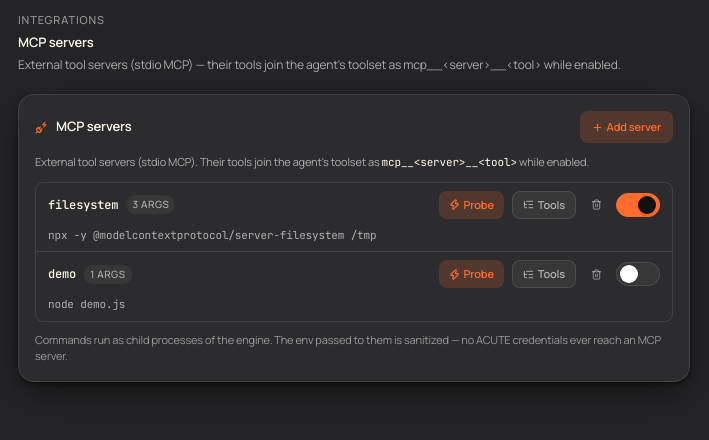
Test case: McpTab (ROUND-61 R61-2-a) › probes a server and renders the green reachable chip
This screenshot has width=709, height=440.
Check: the text "filesystem" is shown, box x1=48 y1=196 x2=118 y2=214
Step 1. Click the button with aria-label "Probe server filesystem" → (471, 205), box x1=439 y1=191 x2=504 y2=219
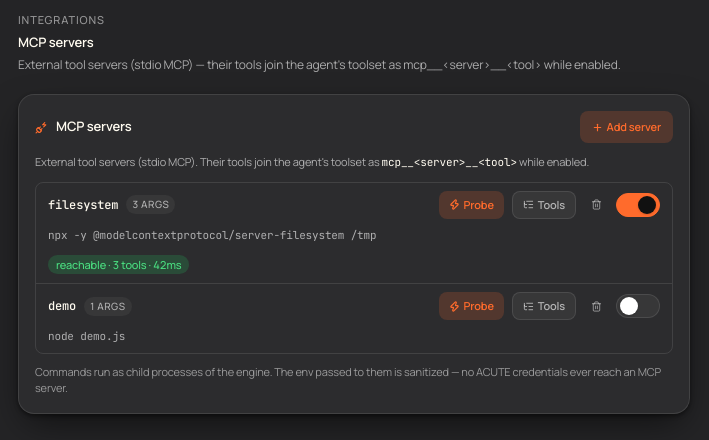
Check: the text "reachable · 3 tools · 42ms" is shown, box x1=48 y1=255 x2=190 y2=274
